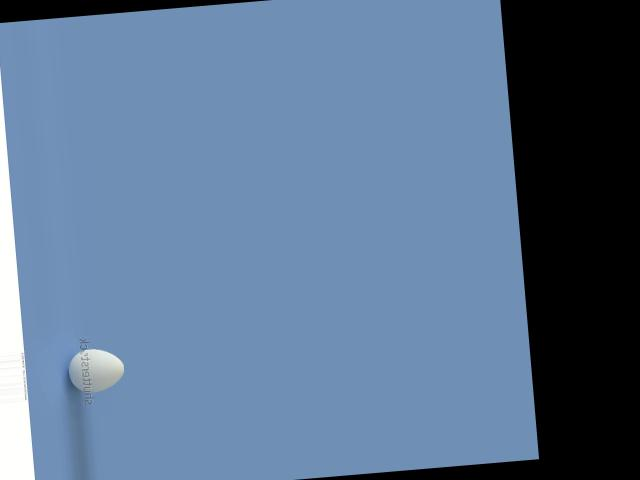egg: (66, 346, 125, 393)
